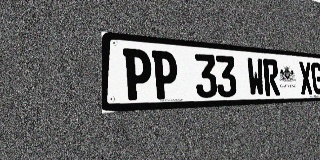3: (195, 53, 217, 98), (216, 55, 237, 97)
G: (311, 62, 320, 94)
P: (123, 48, 152, 100), (152, 50, 178, 99)
R: (263, 59, 280, 96)
W: (246, 57, 265, 96)
X: (298, 61, 313, 95)
